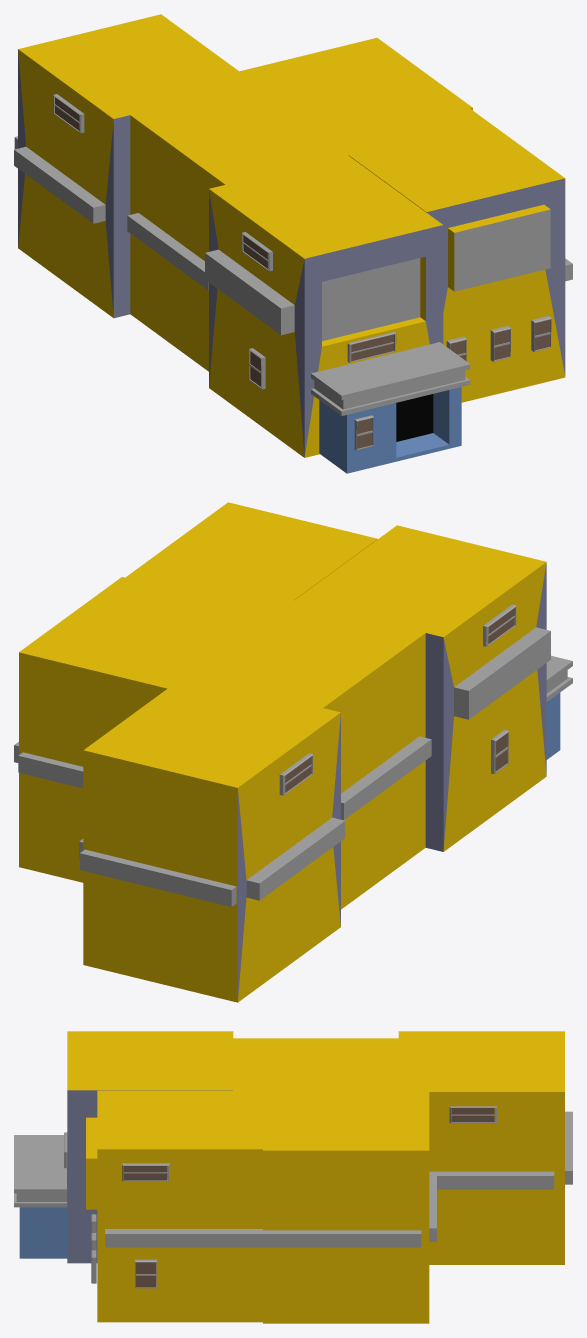
File: Store.fbx
3 views of the same model, one above another, from view 1: azimuth 30°, elevation 25°; view 2: azimuth 150°, elevation 25°; view 3: azimuth 270°, elevation 25° (orthographic). The views are drawn at different scales.
Parts seen in each view (by area): view 1: pCube276, pCube281, pCube277, pCube280, pCube282, pCube279, pCube278, pCube287, polySurface740, polySurface742, polySurface741, polySurface737 (+3 smaller); view 2: pCube281, pCube276, pCube282, pCube280, pCube277, pCube286, pCube287, pCube285, pCube278, pCube279, polySurface742, polySurface741 (+1 smaller); view 3: pCube282, pCube277, pCube281, pCube276, pCube280, pCube284, pCube278, pCube279, pCube283, polySurface746, polySurface745, polySurface744 (+2 smaller).
Boxes of the visible parts, x1,y1,x2,y2 form: pCube276: (205,155,443,457); pCube281: (14,14,255,318); pCube277: (336,108,565,402); pCube280: (130,84,352,371); pCube282: (239,38,472,141); pCube279: (319,387,461,473); pCube278: (311,342,470,415); pCube287: (127,213,208,290); polySurface740: (347,332,396,362); polySurface742: (53,94,84,133); polySurface741: (242,232,272,270); polySurface737: (490,326,510,361); pCube281: (83,675,345,1002); pCube276: (294,525,550,851); pCube282: (19,577,270,882); pCube280: (187,600,425,909); pCube277: (125,502,377,613); pCube286: (80,849,236,906); pCube287: (341,736,431,819); pCube285: (18,752,83,788); pCube278: (546,655,572,701); pCube279: (546,693,560,759); polySurface742: (279,753,313,795); polySurface741: (483,604,516,646); pCube282: (263,1091,429,1323); pCube277: (86,1090,263,1322); pCube281: (398,1031,564,1264); pCube276: (67,1031,233,1263); pCube280: (233,1038,398,1091); pCube284: (105,1229,421,1247); pCube278: (14,1135,67,1207); pCube279: (19,1168,67,1258); pCube283: (429,1171,554,1189); polySurface746: (449,1106,497,1123); polySurface745: (122,1163,169,1180); polySurface744: (135,1259,156,1288).
Size of the model in its own units: 73.22 by 45.86 by 134.
